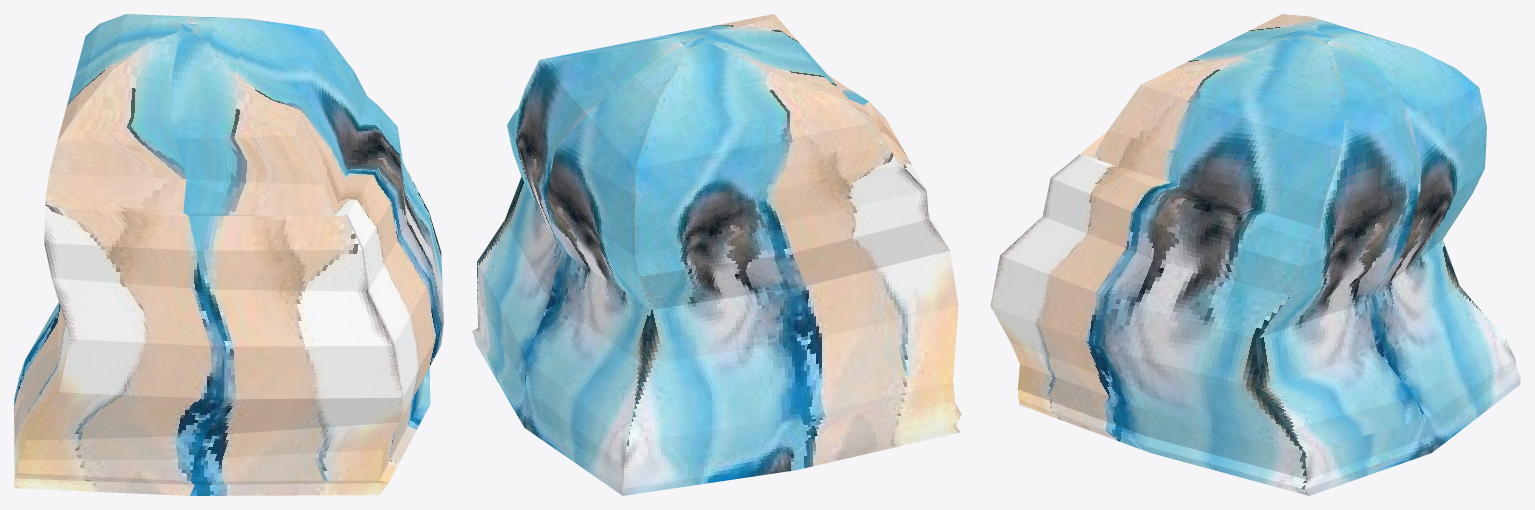
3 renders of one model, left to right at view 1: azimuth 30°, elevation 25°; view 2: azimuth 150°, elevation 25°; view 3: azimuth 270°, elevation 25°, orthographic. The views are drawn at different scales.
Visible parts, largest first — view 1: SPLICE_1.005; view 2: SPLICE_1.005; view 3: SPLICE_1.005.
Boxes of the visible parts, x1,y1,x2,y2 form: SPLICE_1.005: (14, 14, 443, 495); SPLICE_1.005: (472, 14, 961, 495); SPLICE_1.005: (990, 14, 1520, 495).
Bounding box in the file's own units: 2.09 × 1.64 × 2.18.
1 material, 1 textured.
